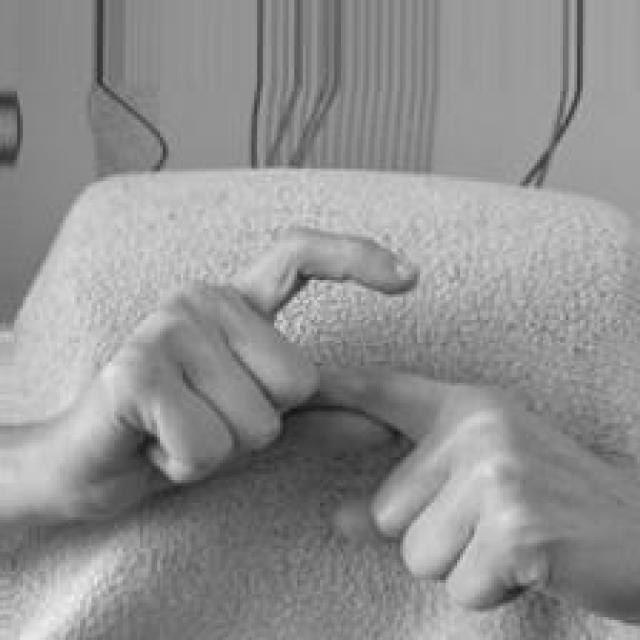S: (72, 225, 640, 624)
